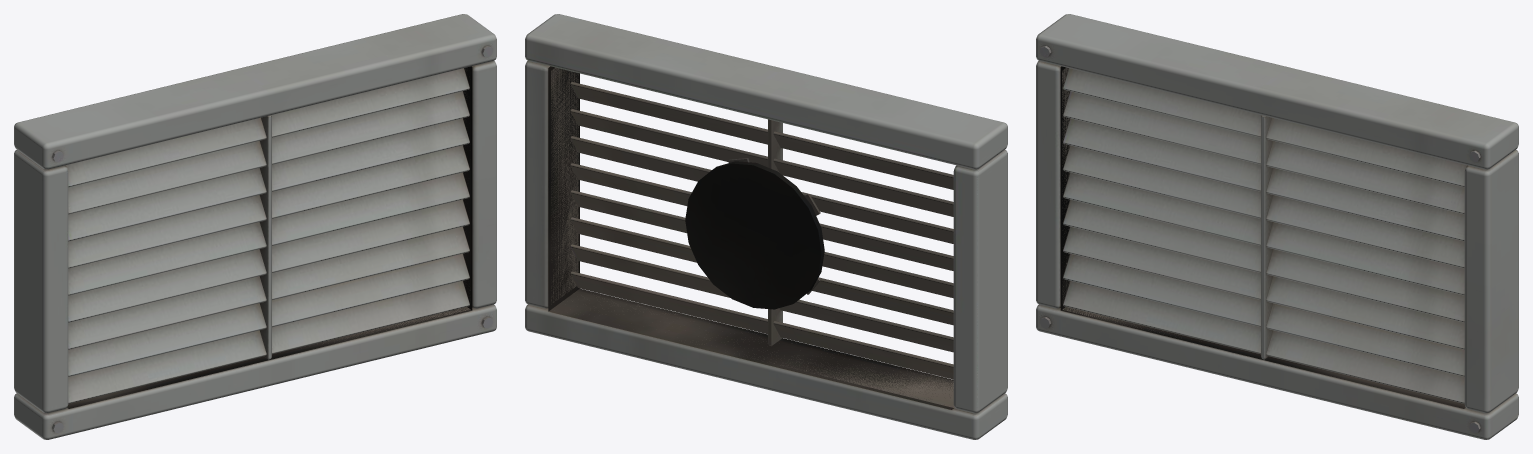
File: wall_vent.glb
The picture shows the model from 3 angles, left to right: view 1: azimuth 30°, elevation 25°; view 2: azimuth 150°, elevation 25°; view 3: azimuth 330°, elevation 25°; orthographic projection.
Parts seen in each view (by area): view 1: wall_vent; view 2: wall_vent; view 3: wall_vent.
Boxes of the visible parts, <box> form: wall_vent: <box>14,14,496,439</box>; wall_vent: <box>525,14,1007,439</box>; wall_vent: <box>1036,14,1518,439</box>.
Size of the model in its own units: 0.8 by 0.5 by 0.105.
1 material, 1 textured.
